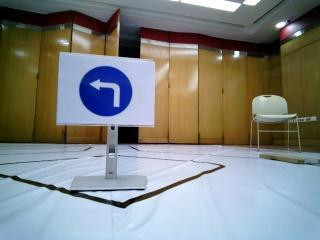left: (60, 54, 155, 129)
